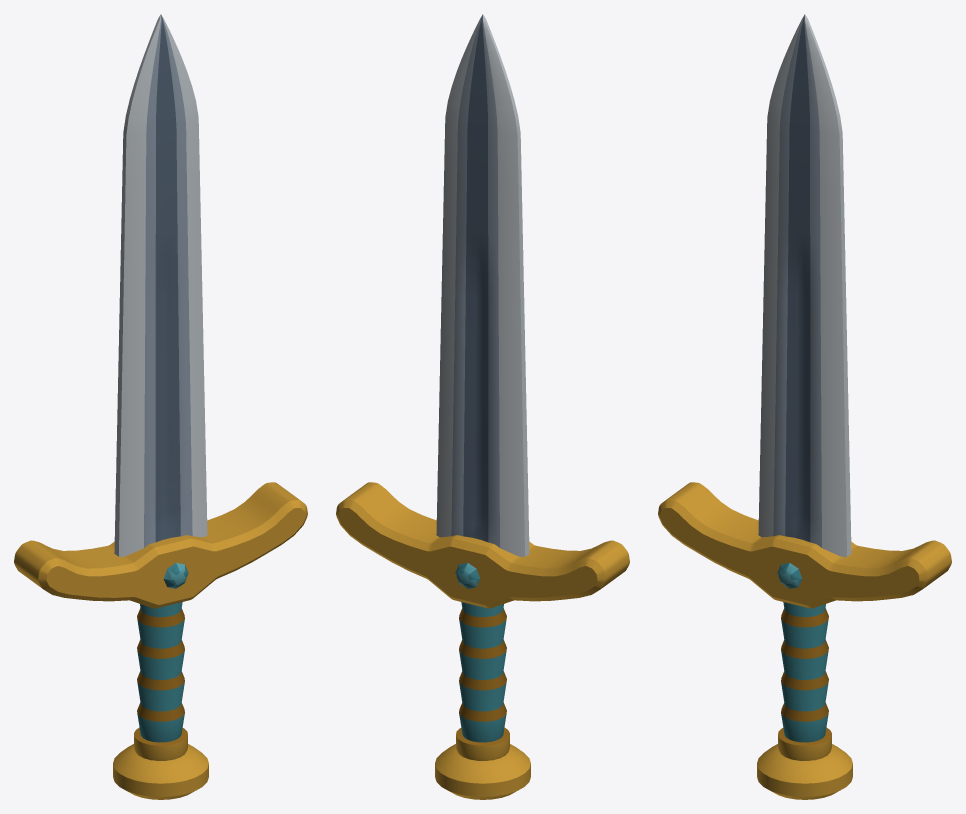
Rendered from Longsword_19.glb.
3 views of the same model, side by side, from view 1: azimuth 30°, elevation 25°; view 2: azimuth 150°, elevation 25°; view 3: azimuth 330°, elevation 25° (orthographic).
Parts seen in each view (by area): view 1: Longsword_19; view 2: Longsword_19; view 3: Longsword_19.
Part boxes in pixels (bbox=[...]): Longsword_19: bbox=[14, 14, 307, 799]; Longsword_19: bbox=[336, 14, 629, 799]; Longsword_19: bbox=[658, 14, 951, 799].
Size of the model in its own units: 2.31 by 6.3 by 0.7124.
